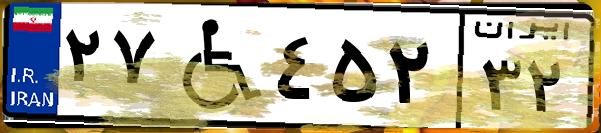2: (385, 28, 445, 110), (57, 26, 110, 100), (525, 38, 570, 115)
3: (475, 38, 525, 113)
4: (270, 28, 330, 110)
5: (330, 28, 385, 110)
7: (110, 28, 158, 98)
ژ (معلولین و جانبازان): (158, 12, 270, 120)
